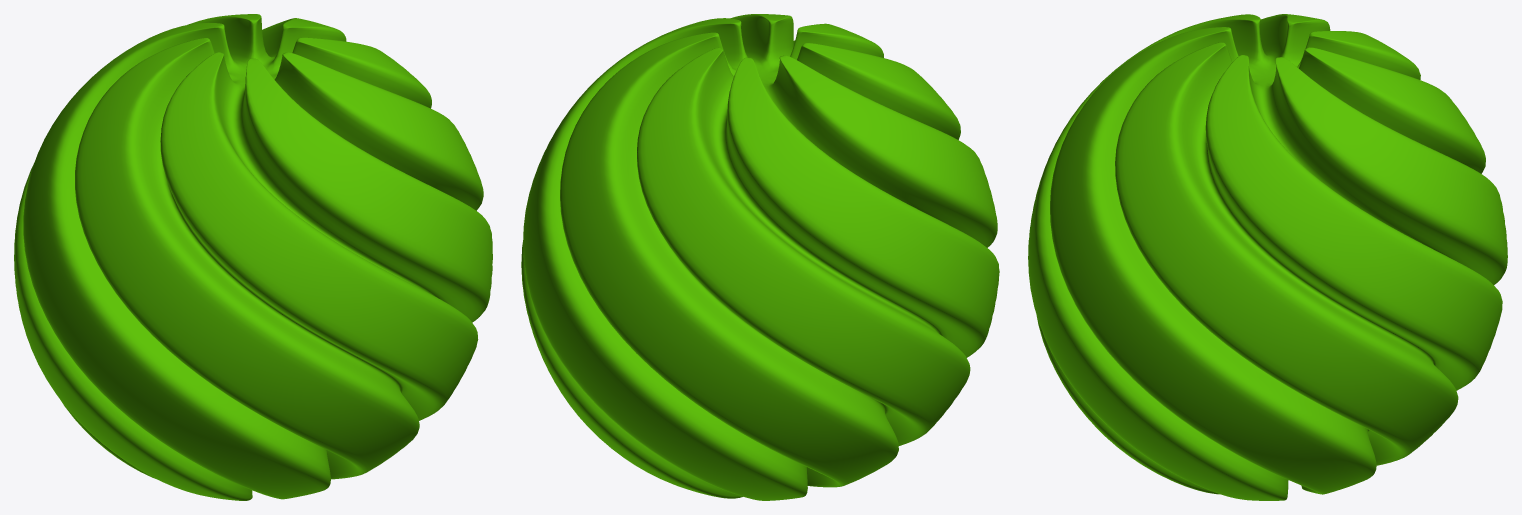
File: green_glass_4.glb
3 renders of one model, left to right at view 1: azimuth 30°, elevation 25°; view 2: azimuth 150°, elevation 25°; view 3: azimuth 270°, elevation 25°, orthographic.
Parts seen in each view (by area): view 1: Sphere.043; view 2: Sphere.043; view 3: Sphere.043.
Part boxes in pixels (x1,y1,x2,y2): Sphere.043: (14, 14, 492, 500); Sphere.043: (521, 14, 999, 500); Sphere.043: (1028, 14, 1507, 500).
Bounding box in the file's own units: 1.95 × 1.96 × 1.95.
